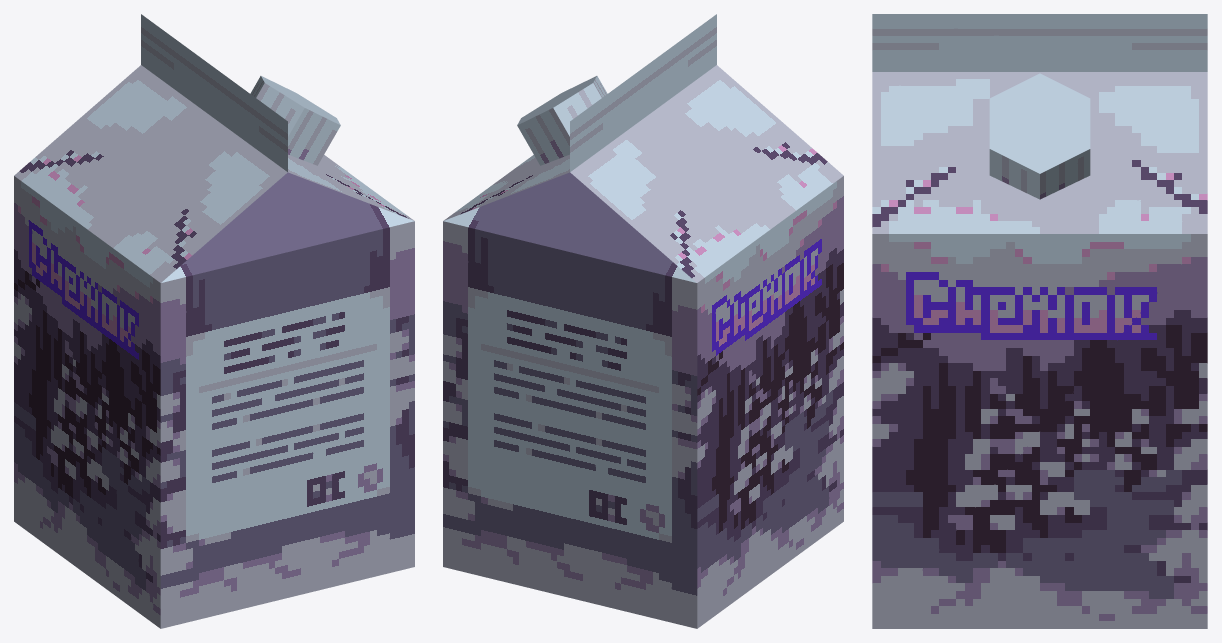
3 renders of one model, left to right at view 1: azimuth 30°, elevation 25°; view 2: azimuth 150°, elevation 25°; view 3: azimuth 270°, elevation 25°, orthographic. The views are drawn at different scales.
Visible parts, largest first — view 1: cuboid, cylinder; view 2: cuboid, cylinder; view 3: cuboid, cylinder.
Boxes of the visible parts, x1,y1,x2,y2 form: cuboid: [14, 14, 414, 628]; cylinder: [250, 76, 340, 165]; cuboid: [443, 14, 843, 628]; cylinder: [517, 76, 607, 165]; cuboid: [872, 14, 1207, 628]; cylinder: [989, 73, 1090, 199].
Size of the model in its own units: 0.625 by 1.12 by 0.625.
1 material, 1 textured.
